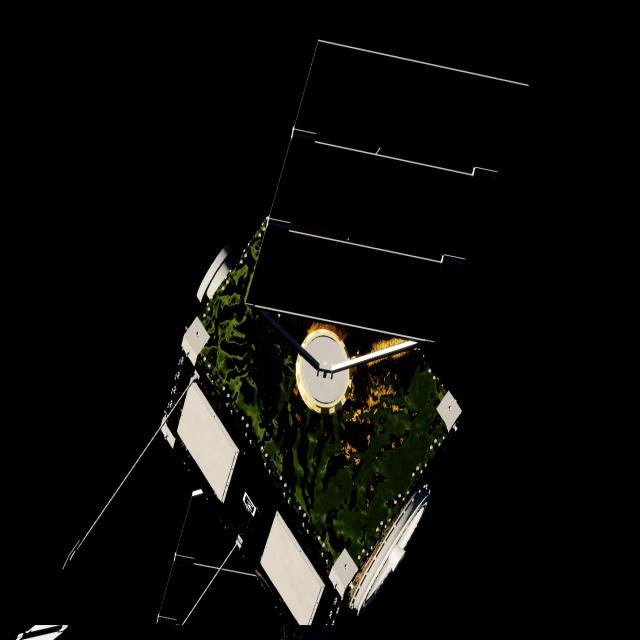medium_debris: (55, 41, 530, 640)
